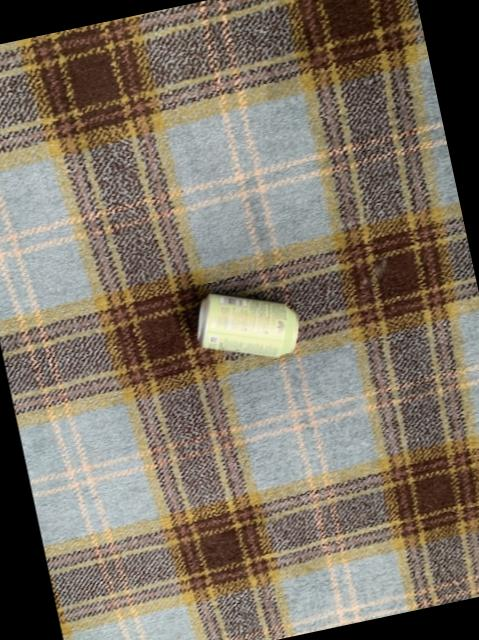metal: (196, 295, 297, 358)
